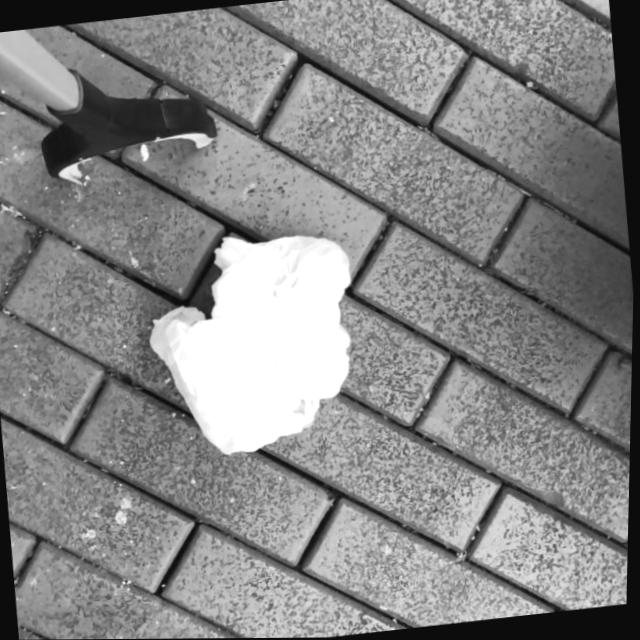Paper: (137, 222, 371, 467)
